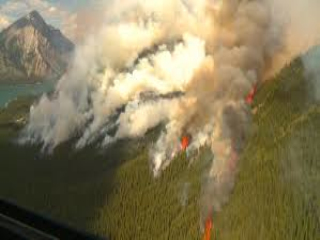fire: (204, 211, 217, 239), (244, 83, 257, 107), (179, 135, 191, 156)
smoke: (21, 8, 271, 164)
